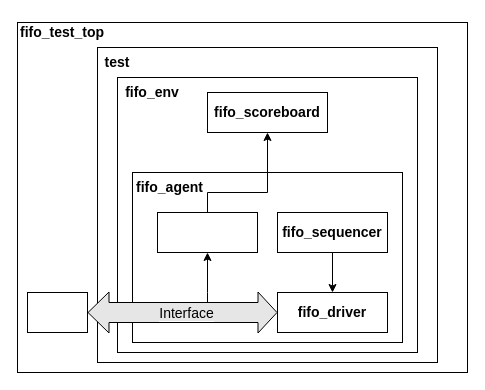
Some shapes in this 485 by 390 pixel diagram are drawn without their labels. The centre of each missing label's shape, as x and y in pixels:
fifo_dut: point 57,312
fifo_monitor: point 207,232
